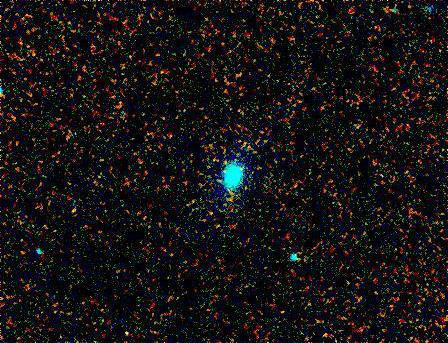star: (111, 316, 141, 343)
